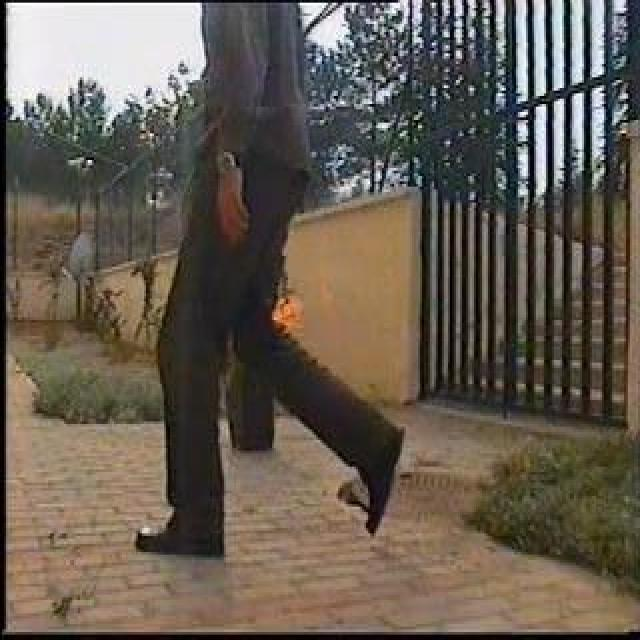fire: (274, 276, 340, 319)
smoke: (307, 233, 337, 252)
